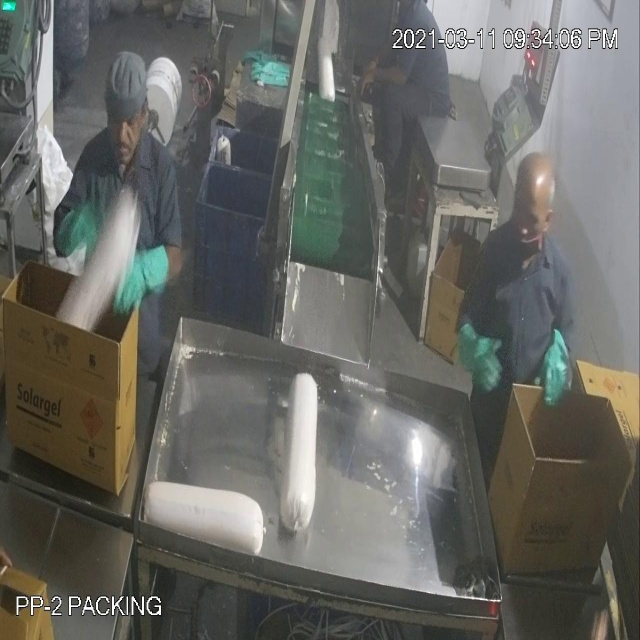Sin_guantes: (354, 52, 415, 108)
